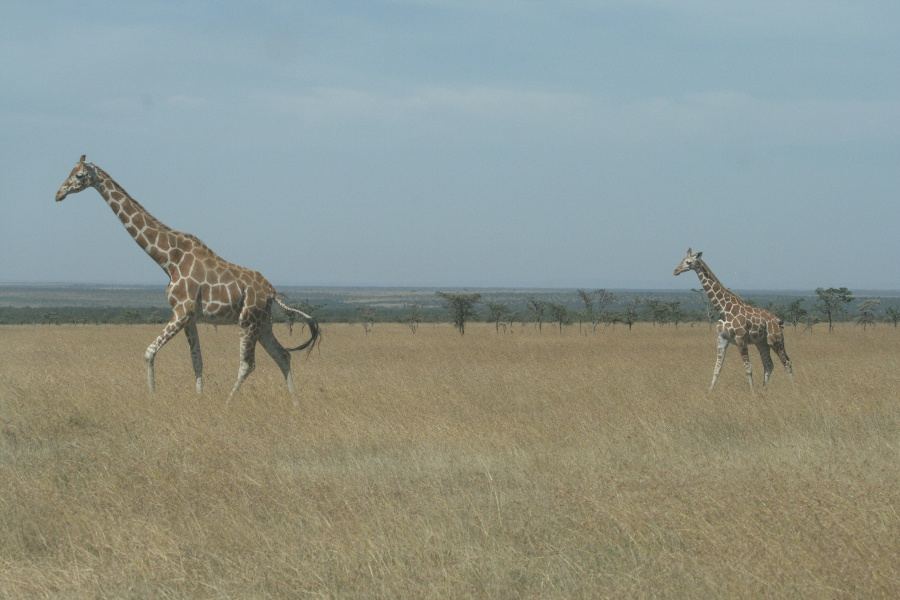giraffe: (42, 146, 310, 409), (668, 239, 793, 406)
